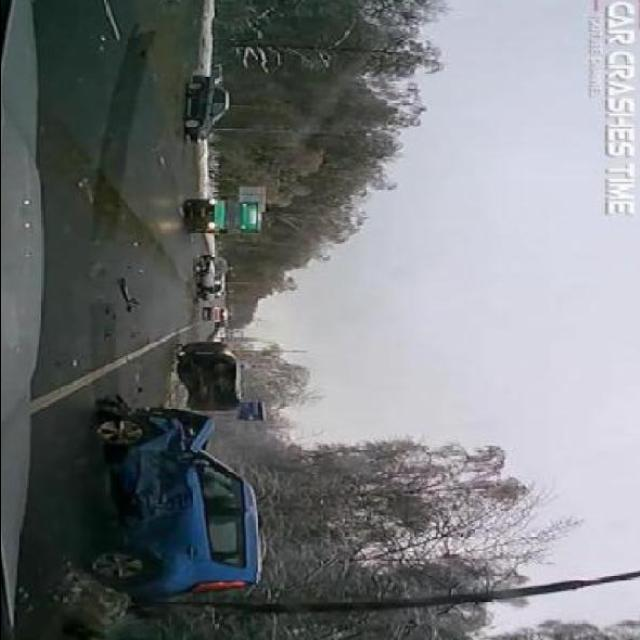accident: (94, 338, 262, 596)
